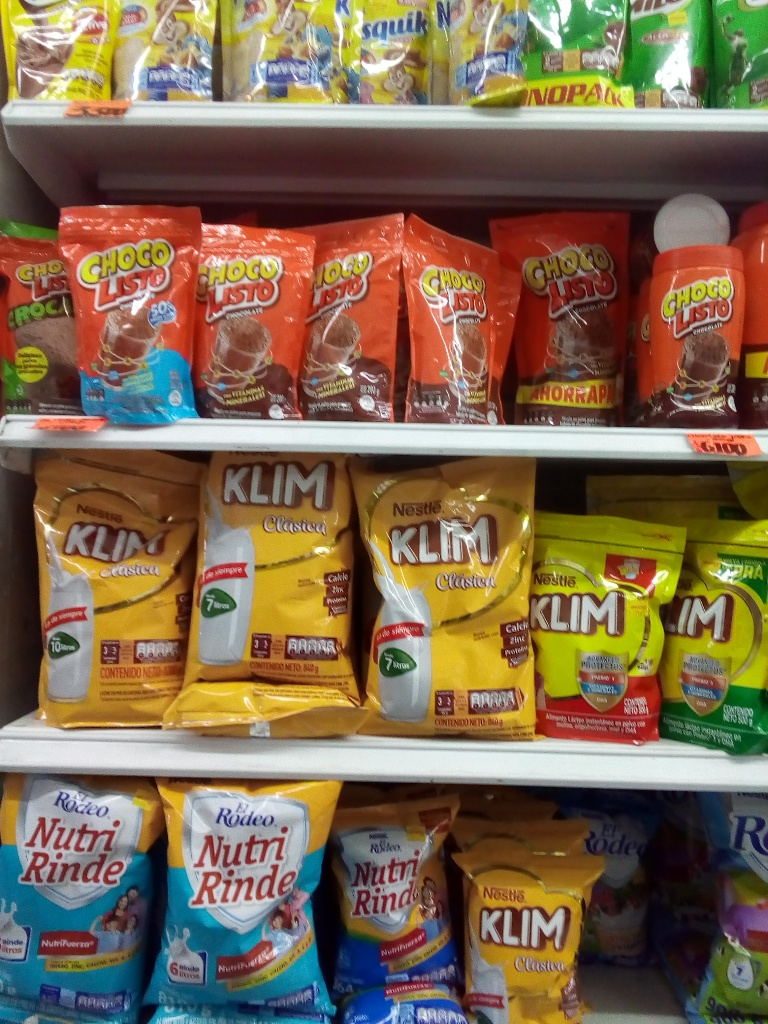COL0170102DYP25000: (3, 216, 83, 416)
COL0170103DYP20000: (203, 218, 301, 418)
COL0170103DYP36000: (485, 209, 638, 425)
COL0170103TRR30000: (638, 232, 740, 428)
COL0170104DYP20000: (64, 208, 197, 422)
COL0170305DYP20000: (340, 1, 452, 108)
COL0170306DYP20000: (115, 0, 217, 99)
